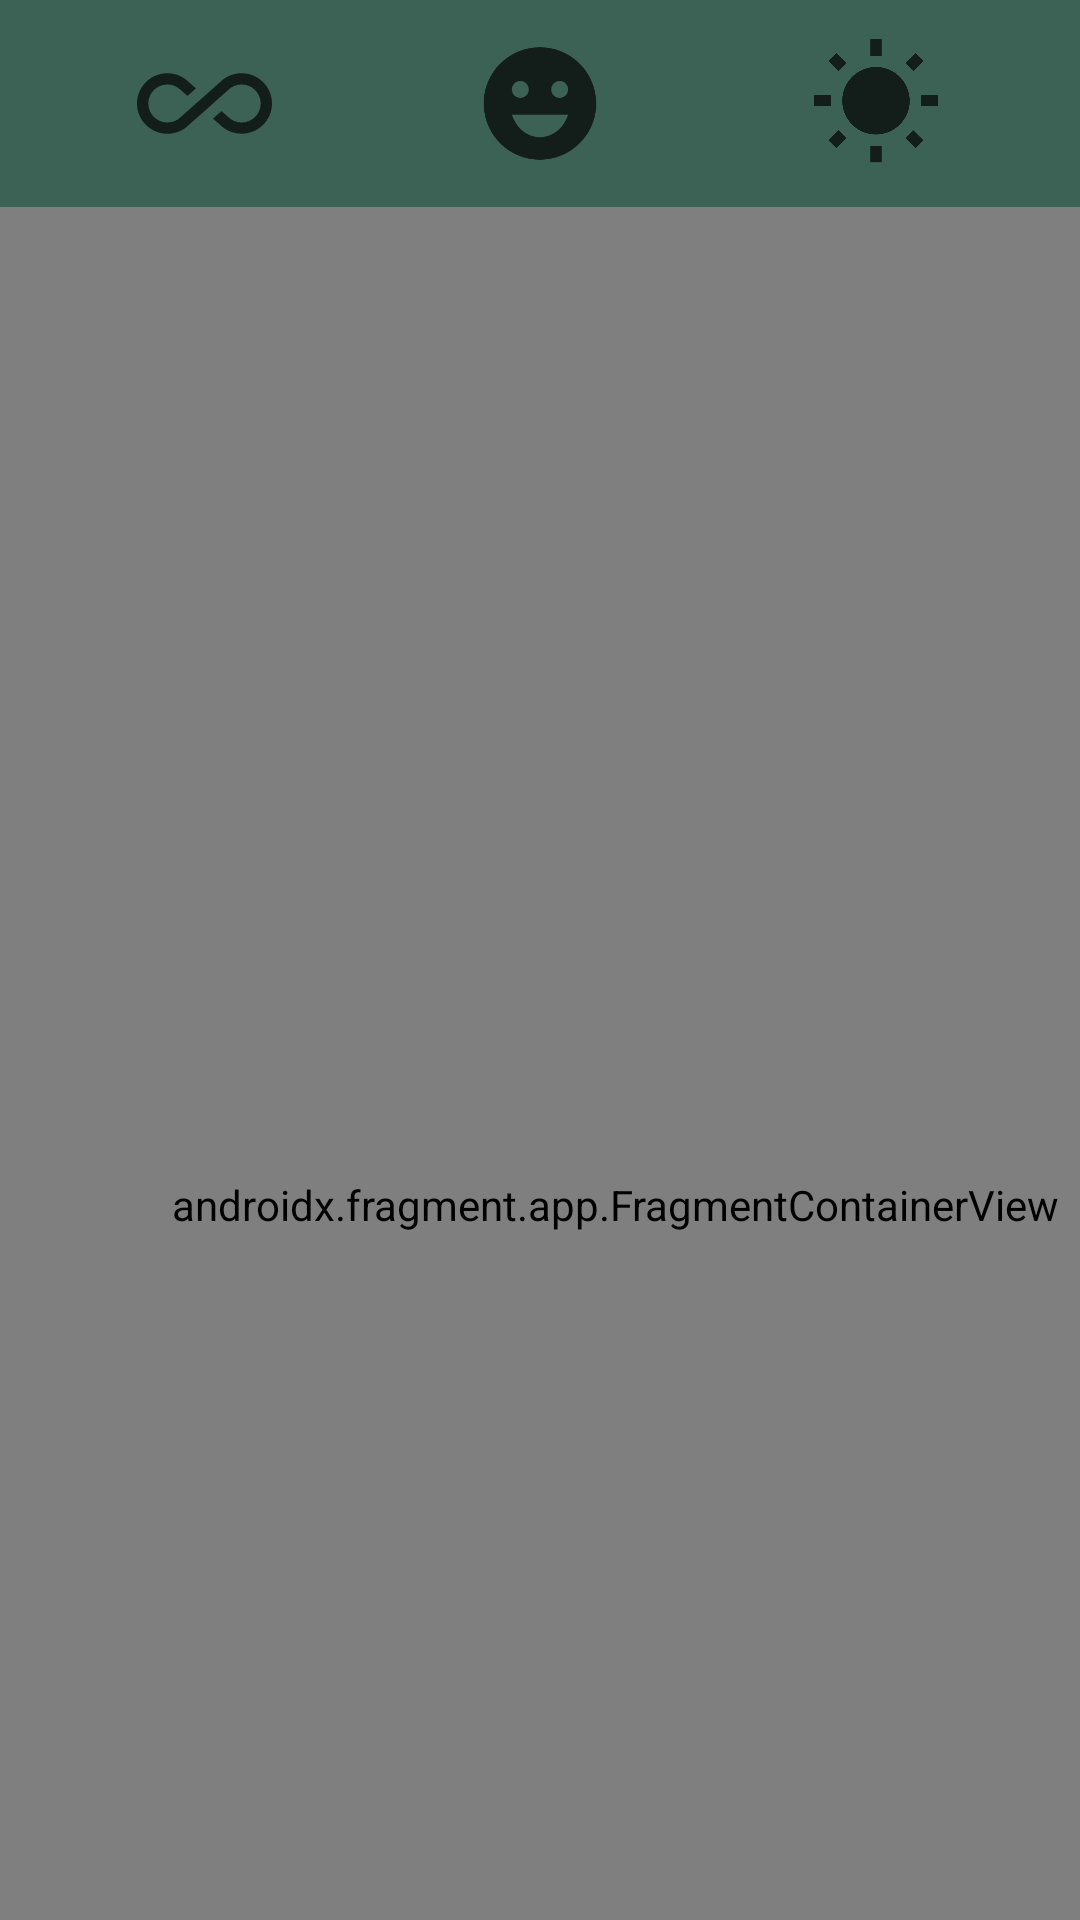

Icon click points for this 1080x1920 phone screenshot, format point (x, y):
all inclusive: point (204, 103)
happy: point (540, 103)
sunny: point (876, 100)
